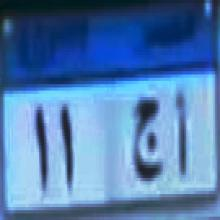1: (58, 98, 82, 191), (29, 100, 51, 191)
alif: (173, 86, 194, 178)
jeem: (128, 91, 164, 184)
